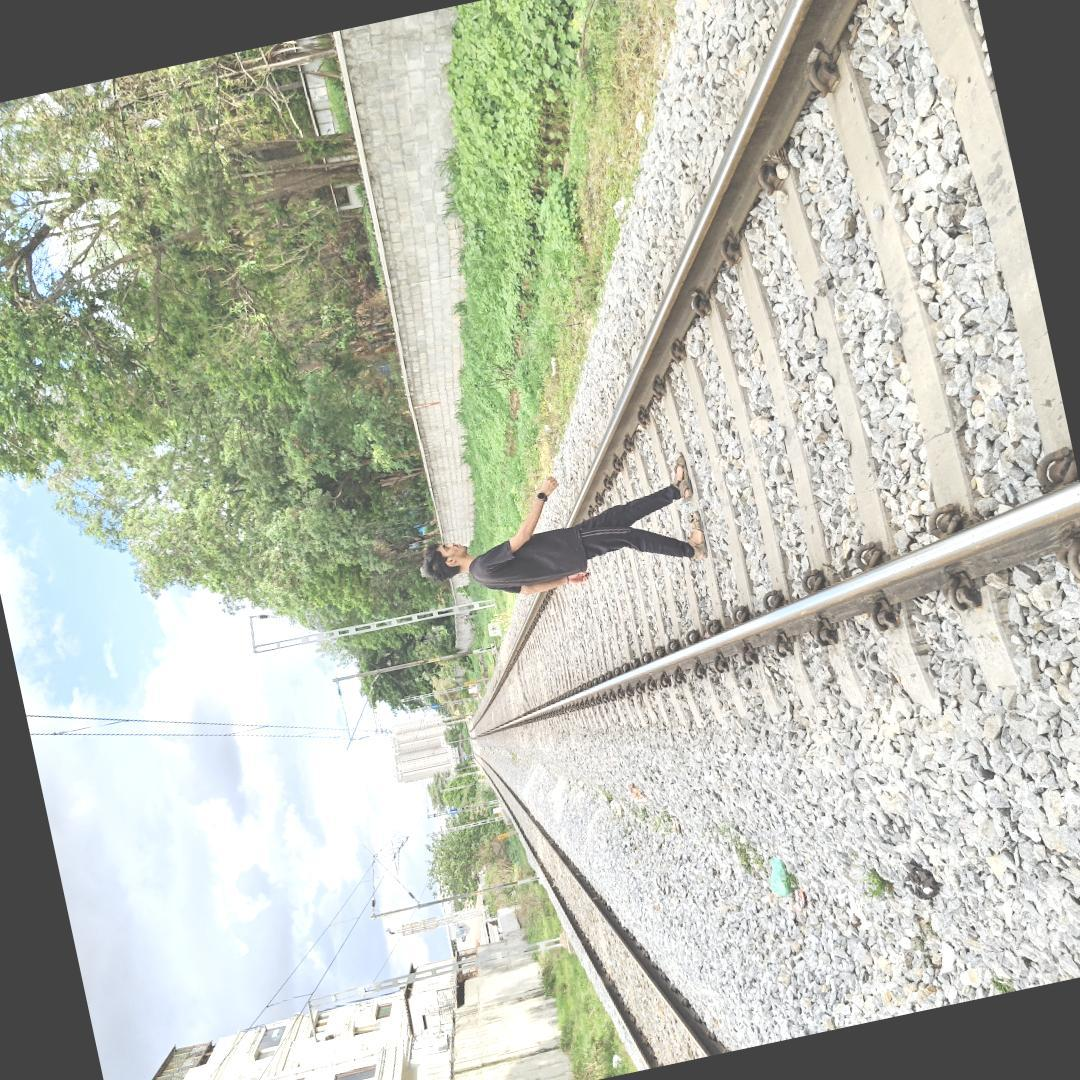standing: (414, 464, 724, 626)
